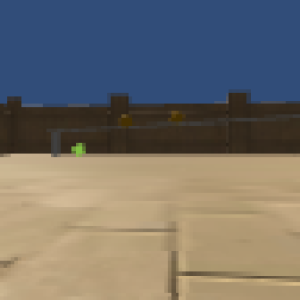goodGoal: (69, 140, 86, 158)
goodGoalMulti: (119, 112, 134, 129), (169, 112, 186, 123)
wall: (49, 127, 62, 156)
